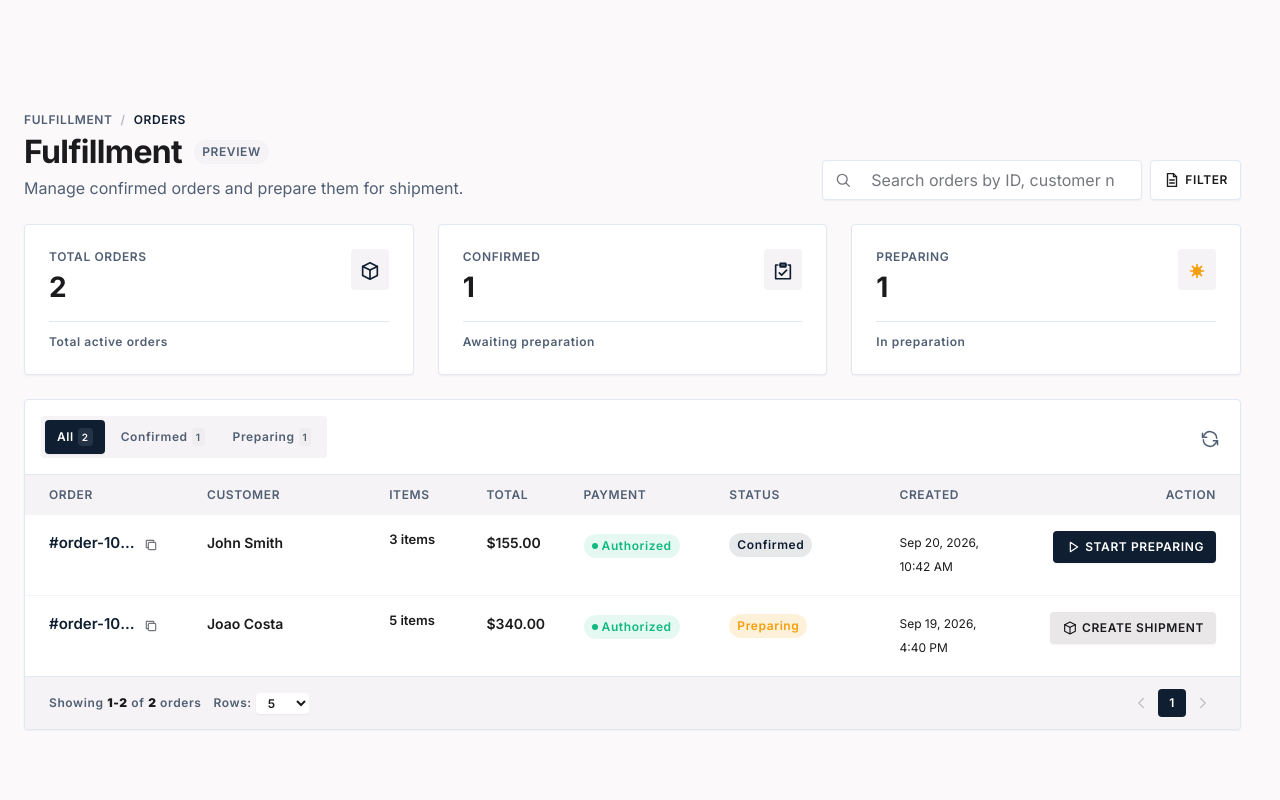
it: FulfillmentQueue › shows a preparation command failure without changing the queue state
Click the button "Start Preparing".
click(1135, 547)  # box [1053,531,1216,563]
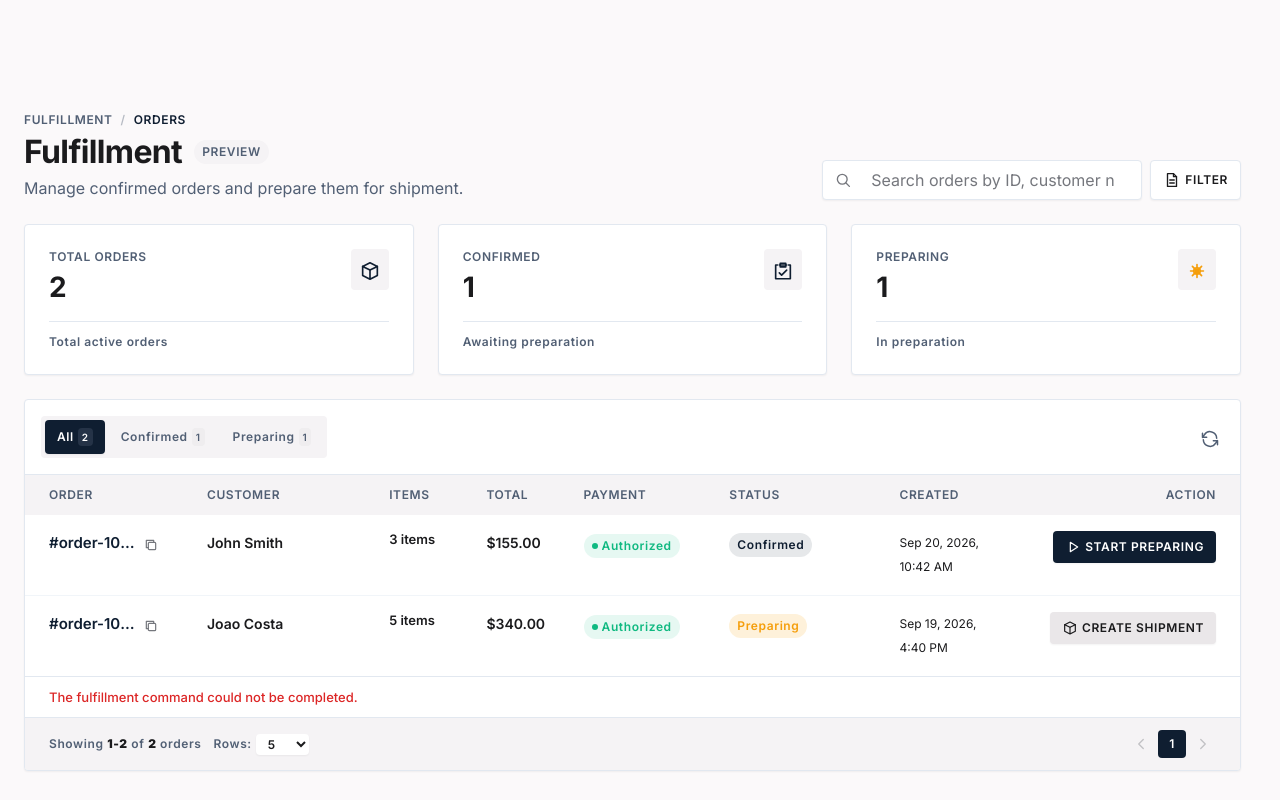
Expected: the link "#order-1042" is shown, [49,531,139,555]
Expected: the text "The fulfillment command could not be completed." is shown, [25,676,1240,717]
